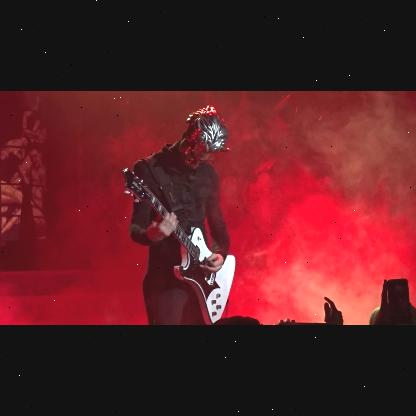guitar: (120, 168, 236, 324)
